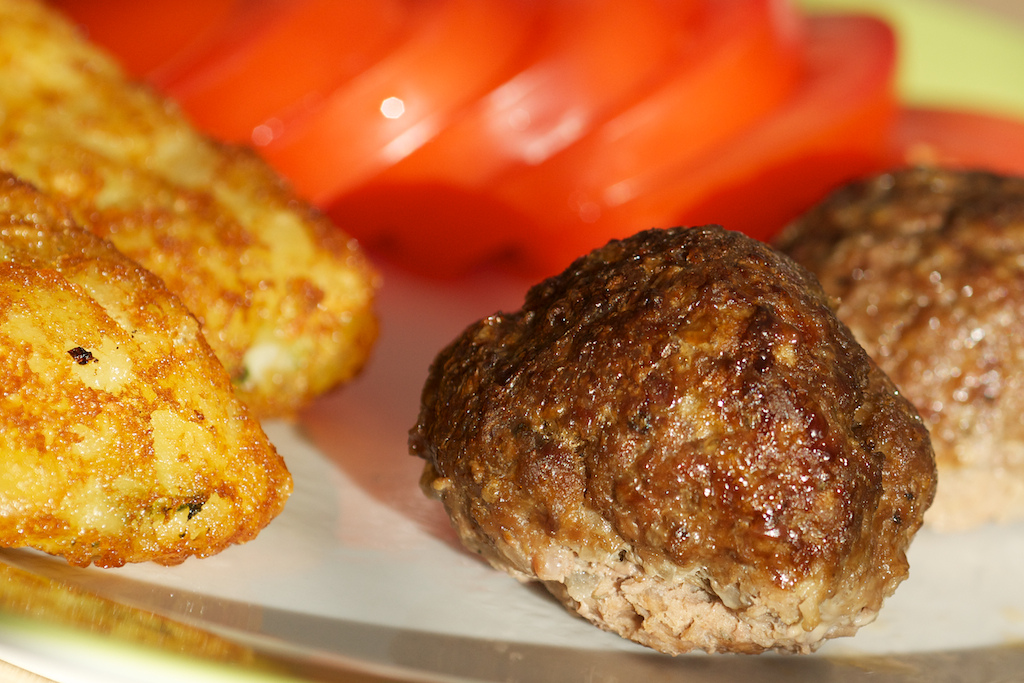meatballs: (451, 246, 876, 638), (806, 176, 1023, 475)
